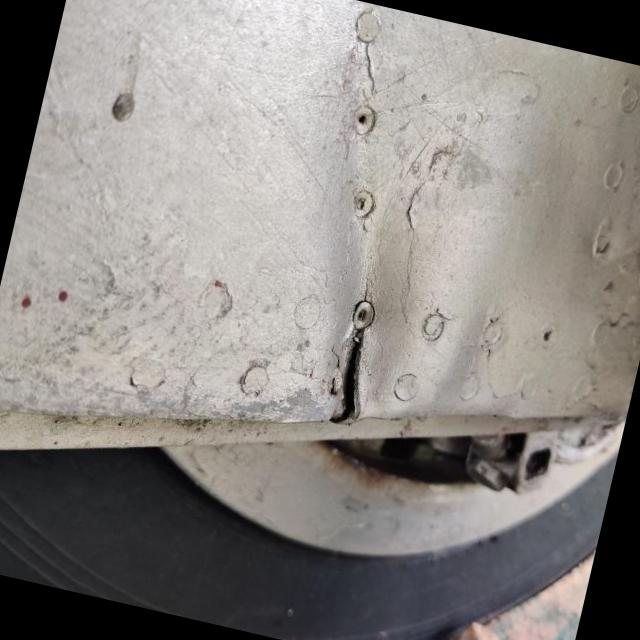Crack: (331, 330, 363, 424)
